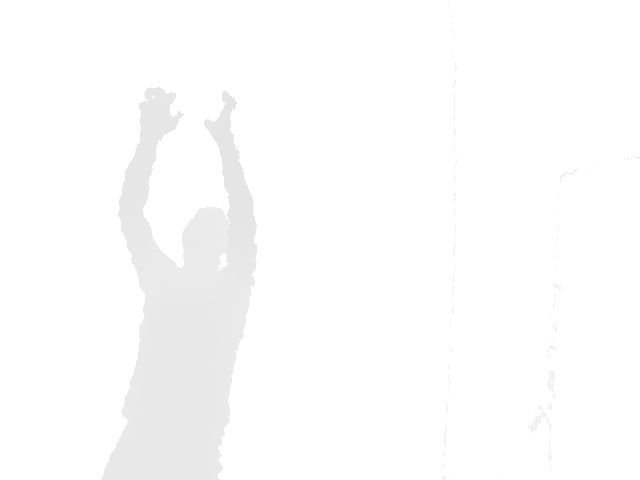hand: (137, 86, 185, 140), (203, 89, 238, 138)
head: (180, 206, 232, 266)
person: (98, 86, 259, 480)
